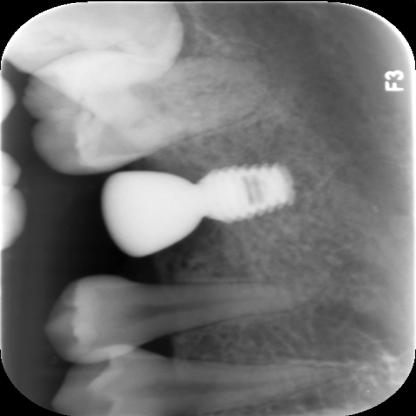Bicon: (180, 148, 325, 240)
